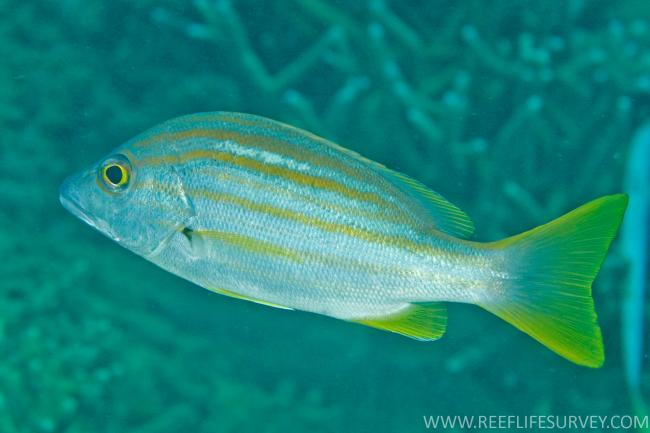fish: (58, 110, 629, 370)
